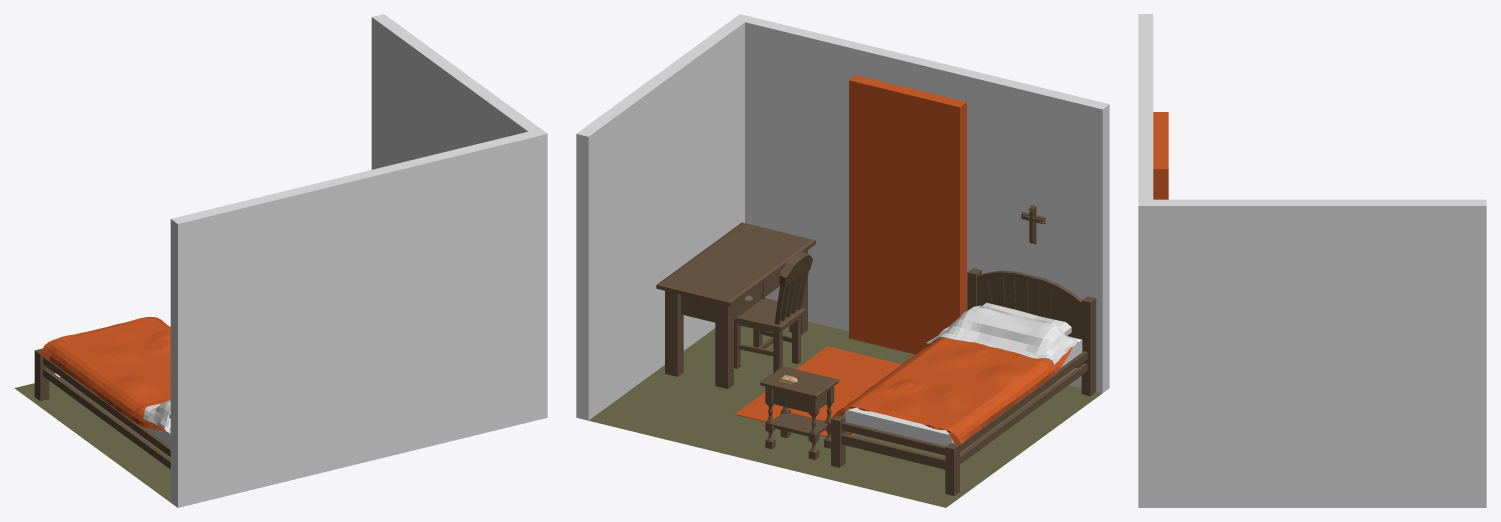
The model's file is room-scale-fbx.fbx.
3 renders of one model, left to right at view 1: azimuth 30°, elevation 25°; view 2: azimuth 150°, elevation 25°; view 3: azimuth 270°, elevation 25°, orthographic. The views are drawn at different scales.
Parts seen in each view (by area): view 1: wall-door, wall-right, blanket.001, Plane, bed, blanket; view 2: wall-door, wall-right, door, Plane, blanket.001, bed, dressing-table, chair-base, blanket, bedside-table, persian-rug, mattress; view 3: wall-right, wall-door, door.
Boxes of the visible parts, <box> form: wall-door: <box>170,128,547,507</box>; wall-right: <box>371,14,547,420</box>; blanket.001: <box>40,316,170,430</box>; Plane: <box>14,377,170,502</box>; bed: <box>34,348,170,469</box>; blanket: <box>143,400,170,432</box>; wall-door: <box>733,14,1109,393</box>; wall-right: <box>576,14,751,420</box>; door: <box>849,75,966,354</box>; Plane: <box>589,321,1102,507</box>; blanket.001: <box>832,337,1072,444</box>; bed: <box>831,268,1096,495</box>; dressing-table: <box>656,222,815,388</box>; chair-base: <box>734,251,812,372</box>; blanket: <box>926,305,1078,364</box>; bedside-table: <box>760,366,838,459</box>; persian-rug: <box>735,346,901,436</box>; mattress: <box>845,336,1082,446</box>; wall-right: <box>1138,199,1486,507</box>; wall-door: <box>1138,14,1153,507</box>; door: <box>1153,112,1168,199</box>.
Size of what is drawn, in the model's own units: 3 by 2.2 by 2.3.
